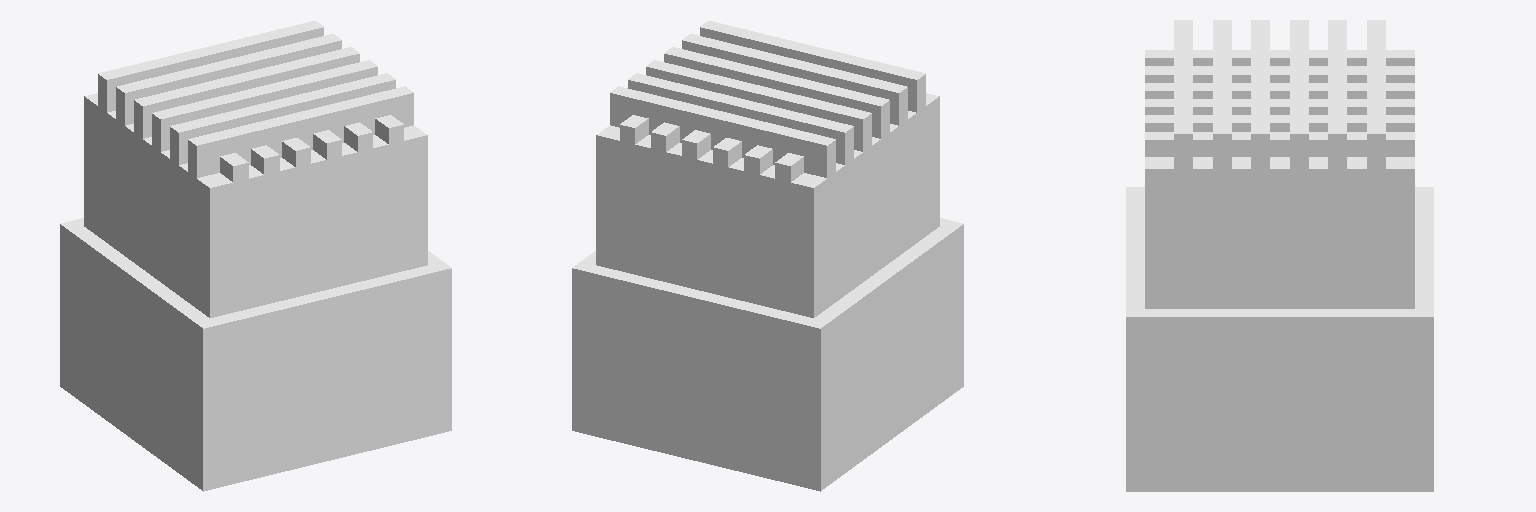
URDF robot description (cross_lines):
<robot name="cross_lines">
	<link name="_name">
		<visual>
			<origin rpy="0 0 0" xyz="0.0 0.0 -0.009486880466472303" />
			<geometry>
				<mesh filename="cross_lines.obj" scale=".001 .001 .001" />
			</geometry>
			<material name="texture">
				<color rgba="1.0 1.0 1.0 1.0" />
			</material>
		</visual>
		<collision>
			<geometry>
				<mesh filename="cross_lines_vhacd.obj" scale=".001 .001 .001" />
			</geometry>
		<origin rpy="0 0 0" xyz="0.0 0.0 -0.009486880466472303" /></collision>
		<inertial>
			<mass value="1.0" />
			<inertia ixx="1.0" ixy="0.0" ixz="0.0" iyy="1.0" iyz="0.0" izz="1.0" />
		</inertial>
	</link>
</robot>

--- Render facts (derived) ---
3 views of the same robot in one strip: view 1: azimuth 30°, elevation 25°; view 2: azimuth 150°, elevation 25°; view 3: azimuth 270°, elevation 25° (orthographic).
Robot: cross_lines — 1 links, 0 joints (none); root link _name; default pose: every joint at zero.
Links seen in each view (by area): view 1: _name; view 2: _name; view 3: _name.
Boxes of the visible links, x1,y1,x2,y2 form: _name: (60, 21, 451, 491); _name: (572, 21, 963, 491); _name: (1126, 20, 1433, 491).
Size in the robot's own frame: 0.016 by 0.016 by 0.02 metres.
1 mesh visuals loaded from 1 distinct referenced files (1 OBJ).